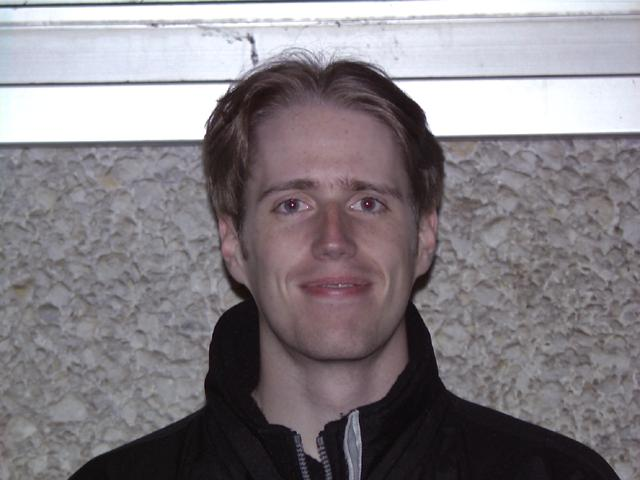Person: (62, 57, 621, 480)
